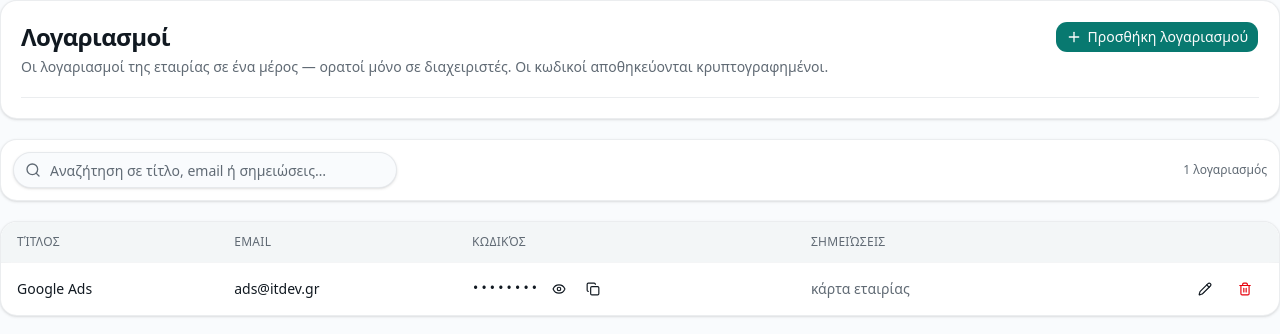
Test: AccountsPage › fetches and shows the password only after clicking the reveal button
Click the button named "Εμφάνιση κωδικού για Google Ads" at x=559, y=289, box x1=545 y1=275 x2=573 y2=303
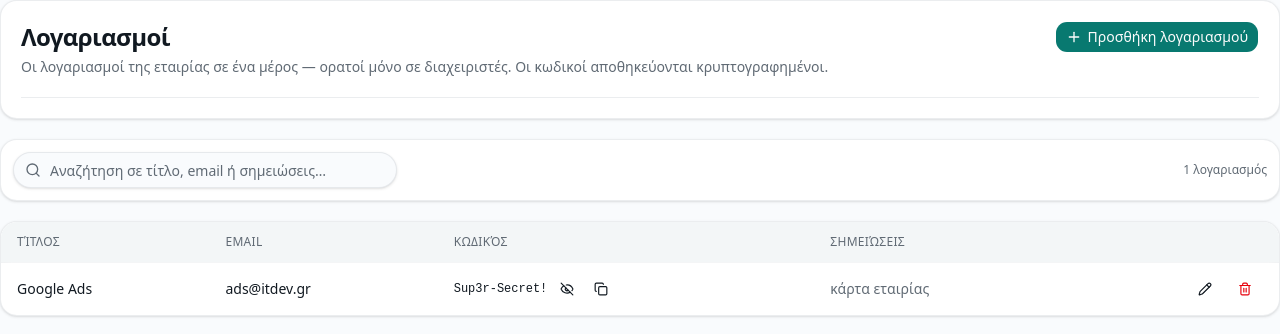
Result: the text "Sup3r-Secret!" is shown at x1=454 y1=281 x2=547 y2=297
